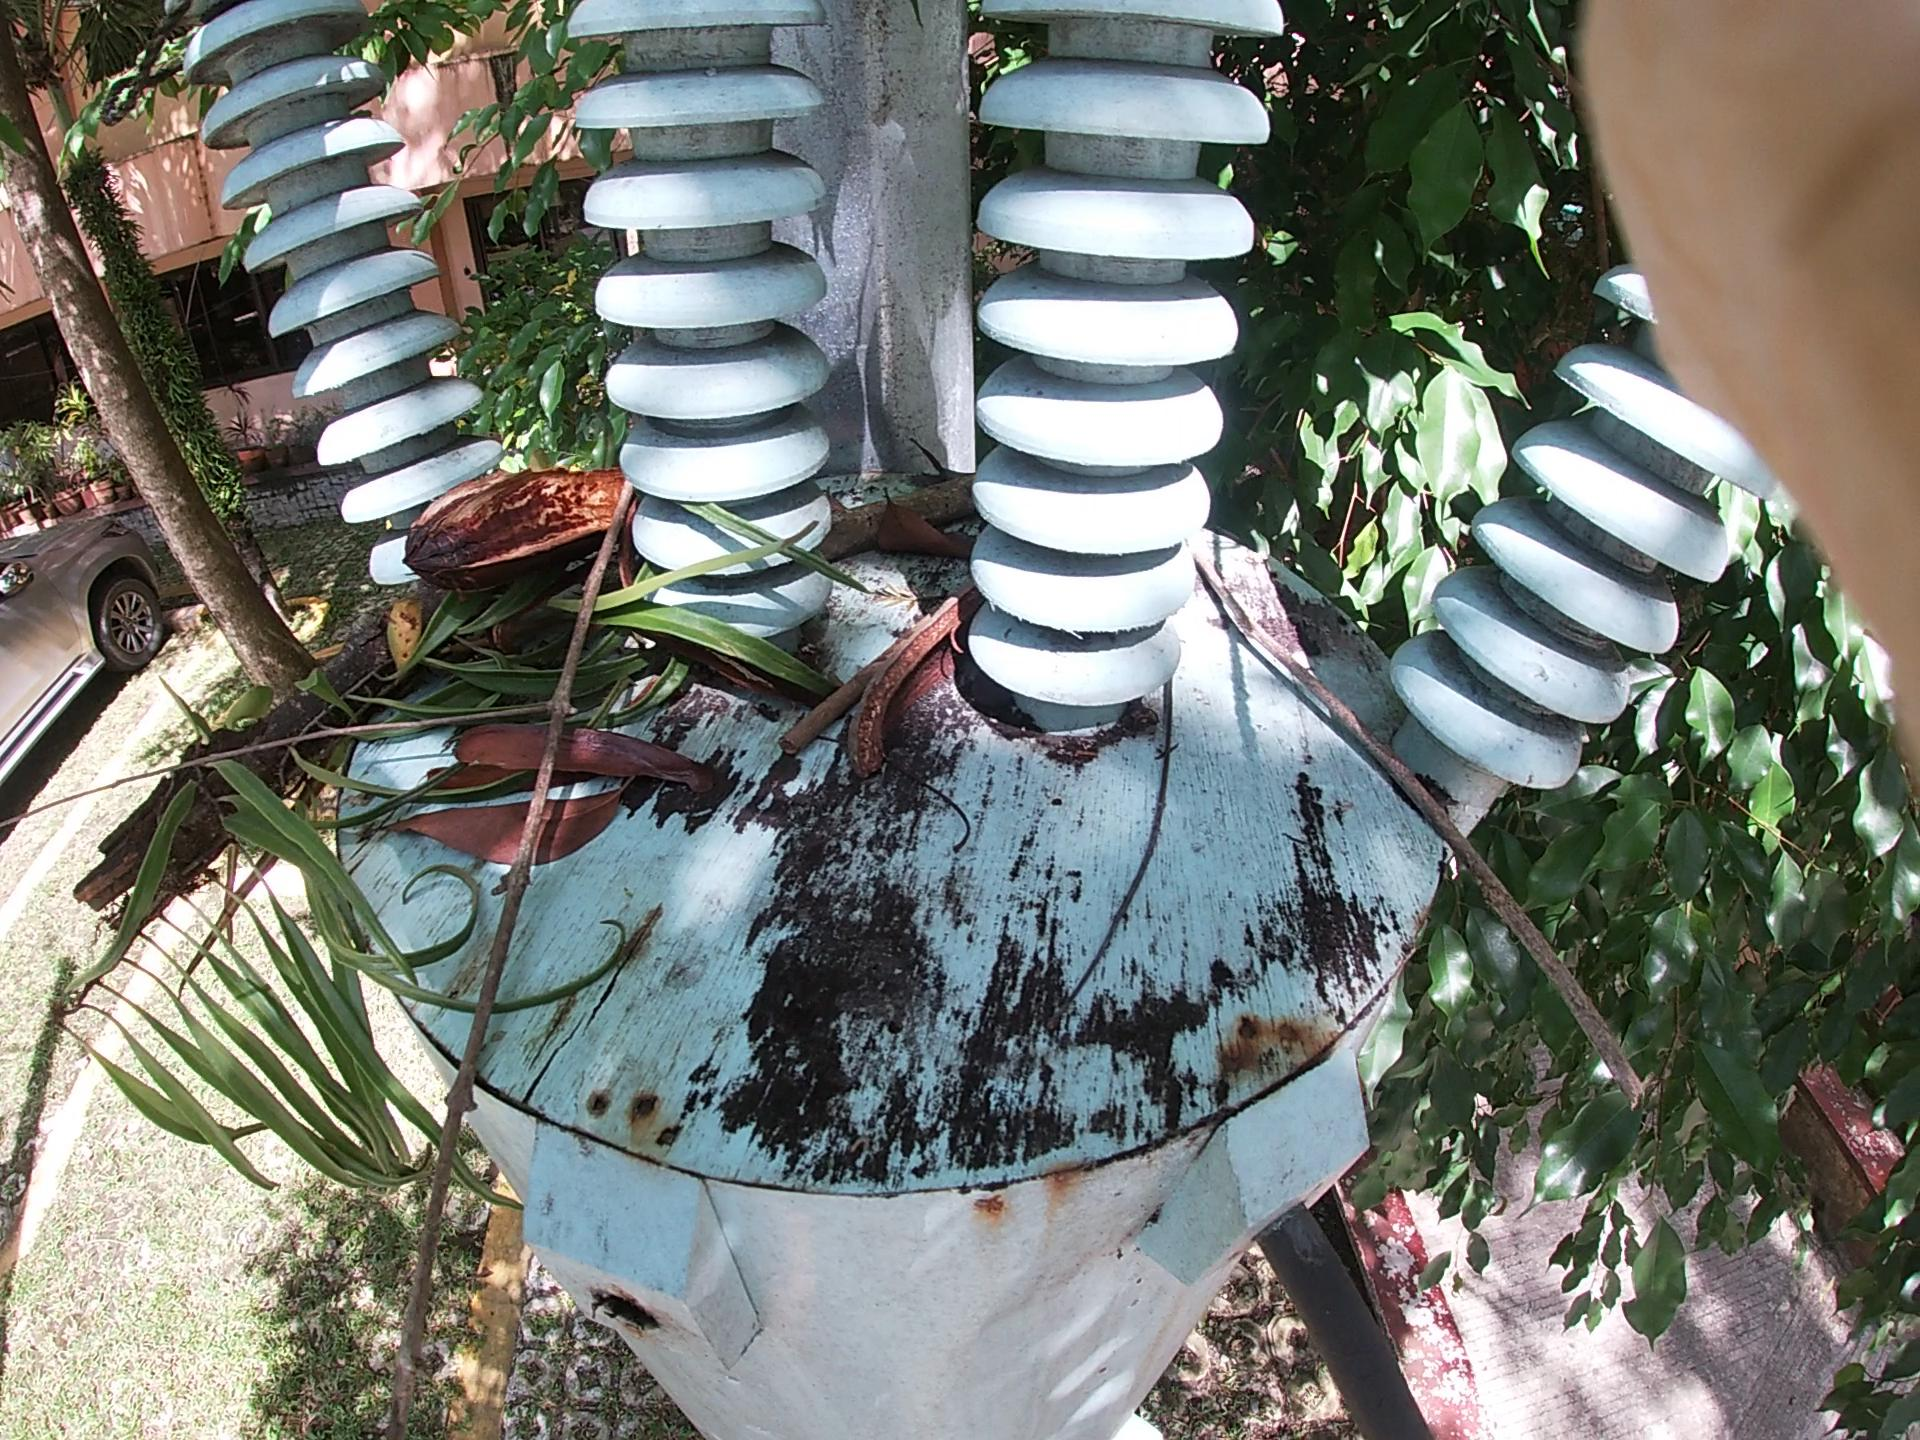branch with leaves: (82, 430, 664, 909)
leaf: (404, 687, 636, 948), (877, 493, 963, 611)
mahogany fruit: (838, 507, 999, 826), (417, 457, 652, 653)
tree branch: (390, 440, 694, 1404), (1144, 563, 1630, 1095), (370, 445, 623, 1361), (770, 504, 1200, 753), (1034, 570, 1228, 1033)
